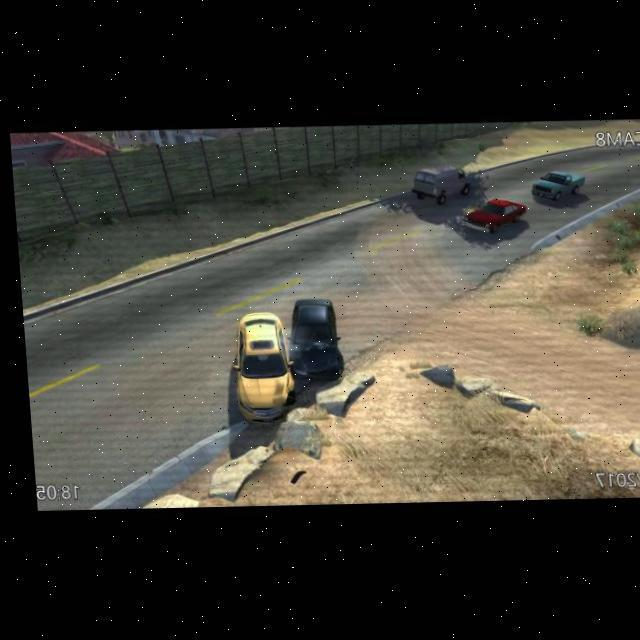multiple_accident: (187, 199, 349, 433)
